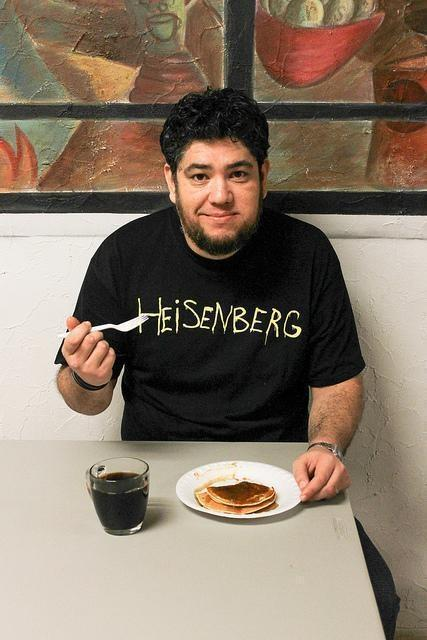glass-mug: (84, 456, 151, 536)
